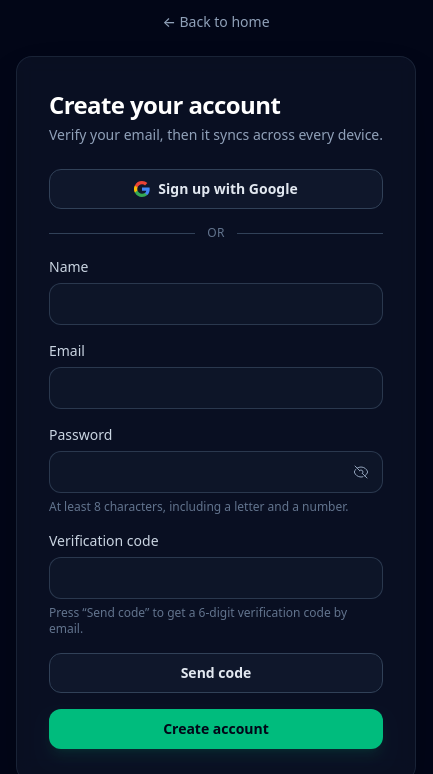
Scenario: RegisterPage › sends the OTP and surfaces the dev code while mail delivery is off
In the field labelled "Email": (216, 388) 49,367 -> 383,409, type "ada@example.com"
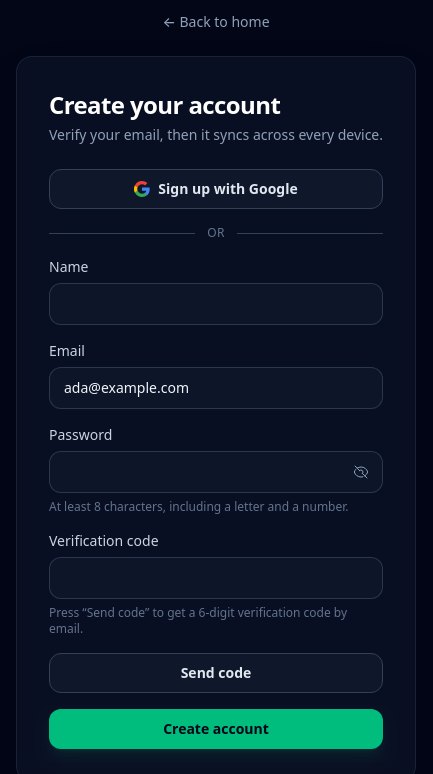
Click the button "Send code": (216, 673) 49,653 -> 383,693
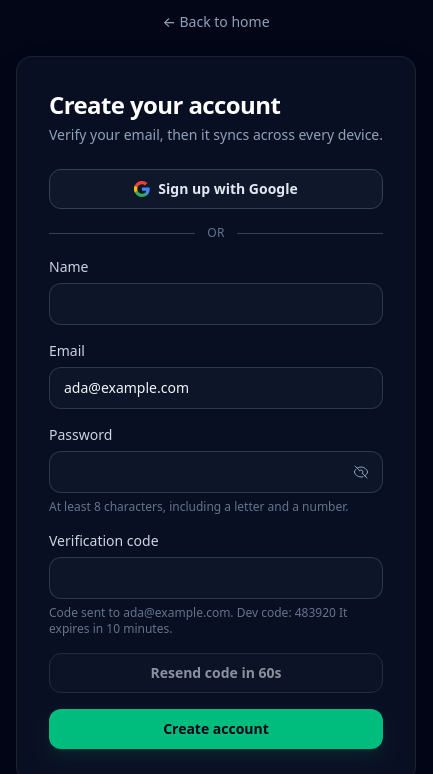
Expected: the text "Code sent to ada@example.com" is shown, 49,604 -> 347,637
Expected: the button "Resend code in 60s" is shown, 49,653 -> 383,693
